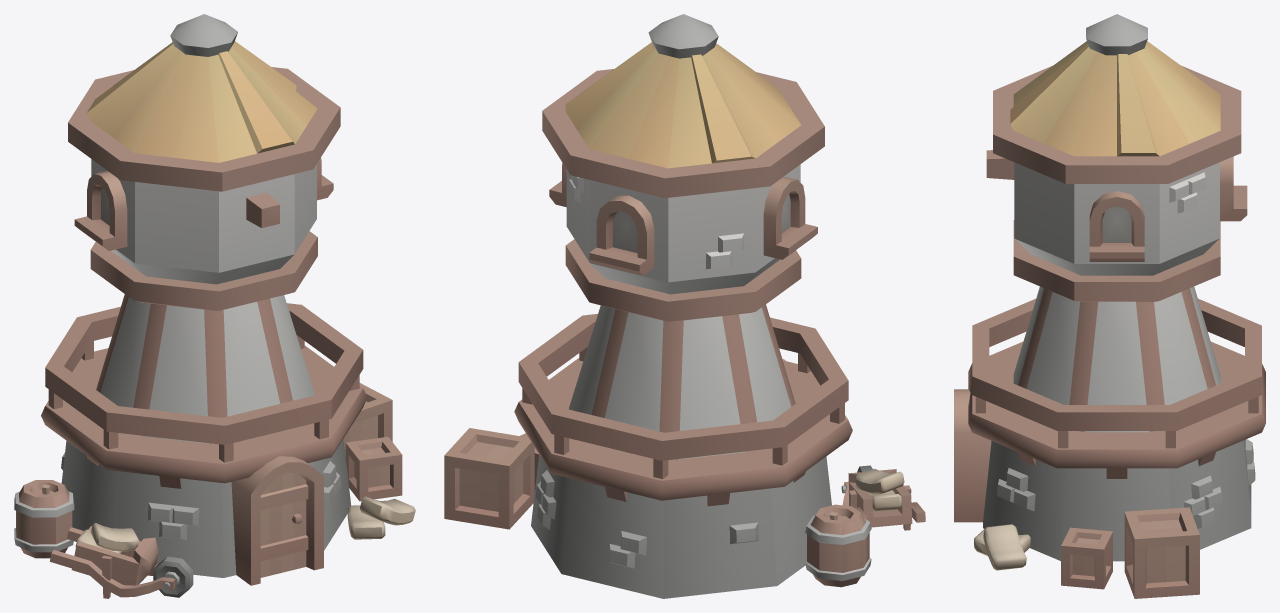
File: windmill.gltf
The picture shows the model from 3 angles, left to right: view 1: azimuth 30°, elevation 25°; view 2: azimuth 150°, elevation 25°; view 3: azimuth 270°, elevation 25°; orthographic projection. The views are drawn at different scales.
Parts seen in each view (by area): view 1: windmill; view 2: windmill; view 3: windmill.
Boxes of the visible parts, x1,y1,x2,y2 form: windmill: [14, 14, 415, 598]; windmill: [444, 14, 925, 598]; windmill: [954, 14, 1265, 598].
Size of the model in its own units: 1.13 by 1.38 by 0.7939.
